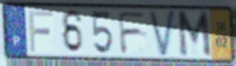5: (91, 10, 115, 55)
6: (60, 9, 84, 55)
F: (116, 10, 149, 55), (27, 9, 55, 54)
M: (176, 9, 214, 60)
V: (148, 8, 178, 60)
